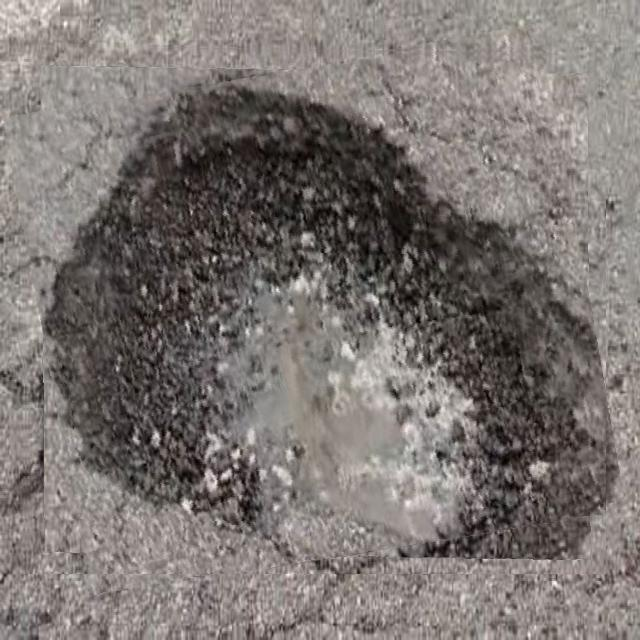Pothole: (22, 45, 606, 574)
